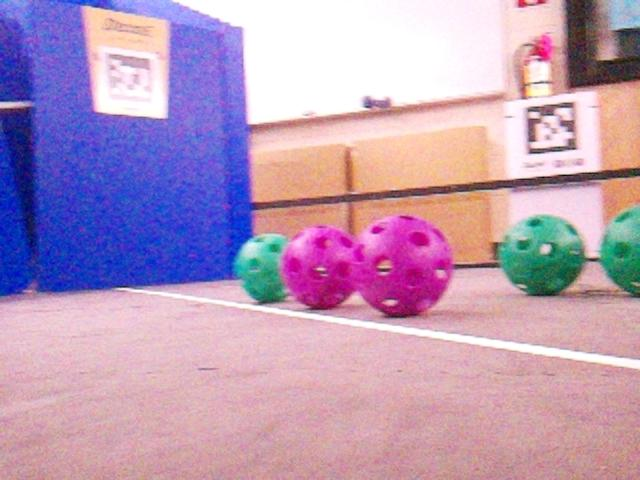Green: (498, 213, 585, 293), (232, 233, 291, 302), (598, 208, 640, 295)
Purple: (352, 214, 453, 314), (280, 225, 359, 308)
